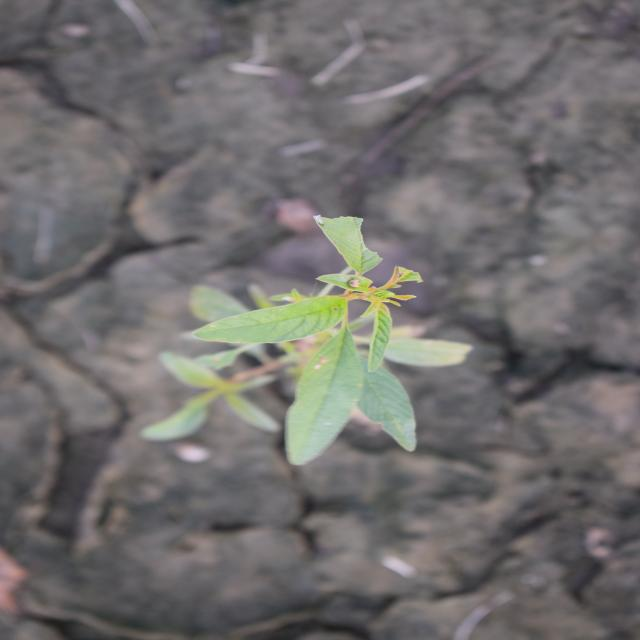Waterhemp: (134, 211, 474, 468)
